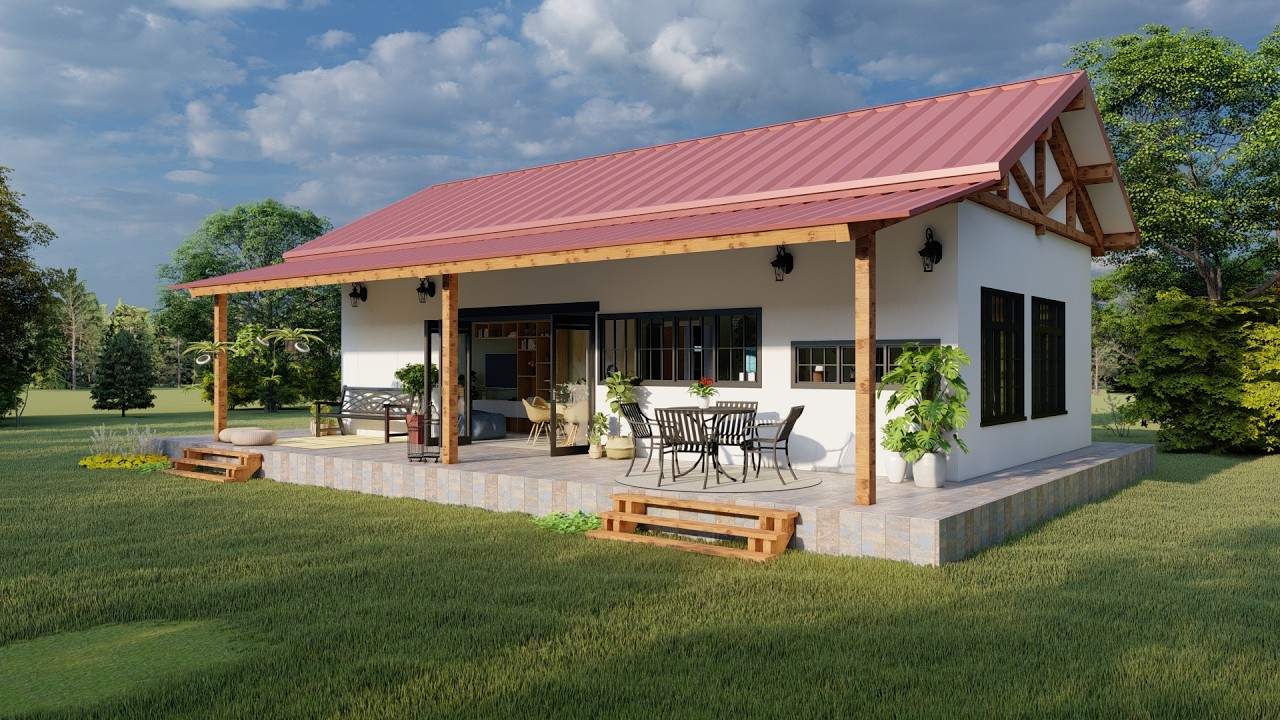House: (161, 94, 1163, 569)
